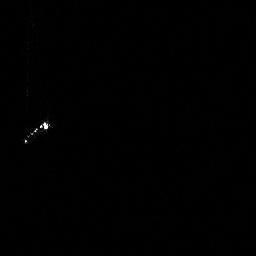ship: (24, 119, 50, 144)
